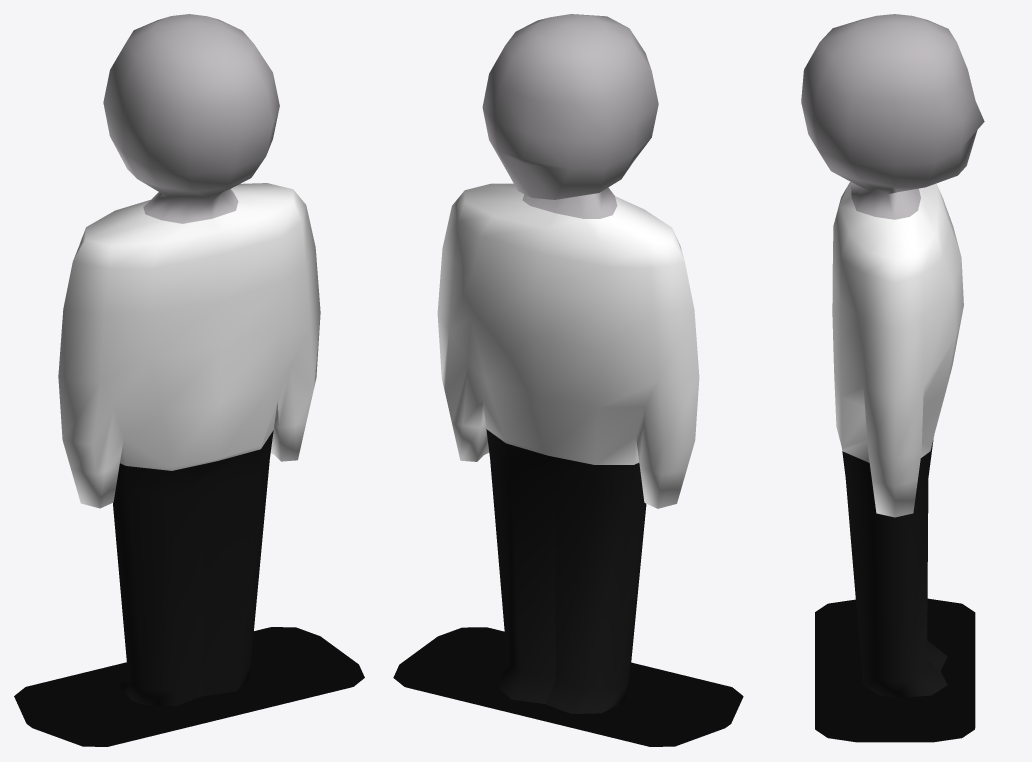
File: Person.fbx
3 renders of one model, left to right at view 1: azimuth 30°, elevation 25°; view 2: azimuth 150°, elevation 25°; view 3: azimuth 270°, elevation 25°, orthographic. The views are drawn at different scales.
Visible parts, largest first — view 1: Person; view 2: Person; view 3: Person.
Part boxes in pixels (x1,y1,x2,y2): Person: [14, 14, 364, 746]; Person: [393, 14, 743, 746]; Person: [801, 14, 984, 742].
Bounding box in the file's own units: 11.33 × 22.23 × 7.61.
